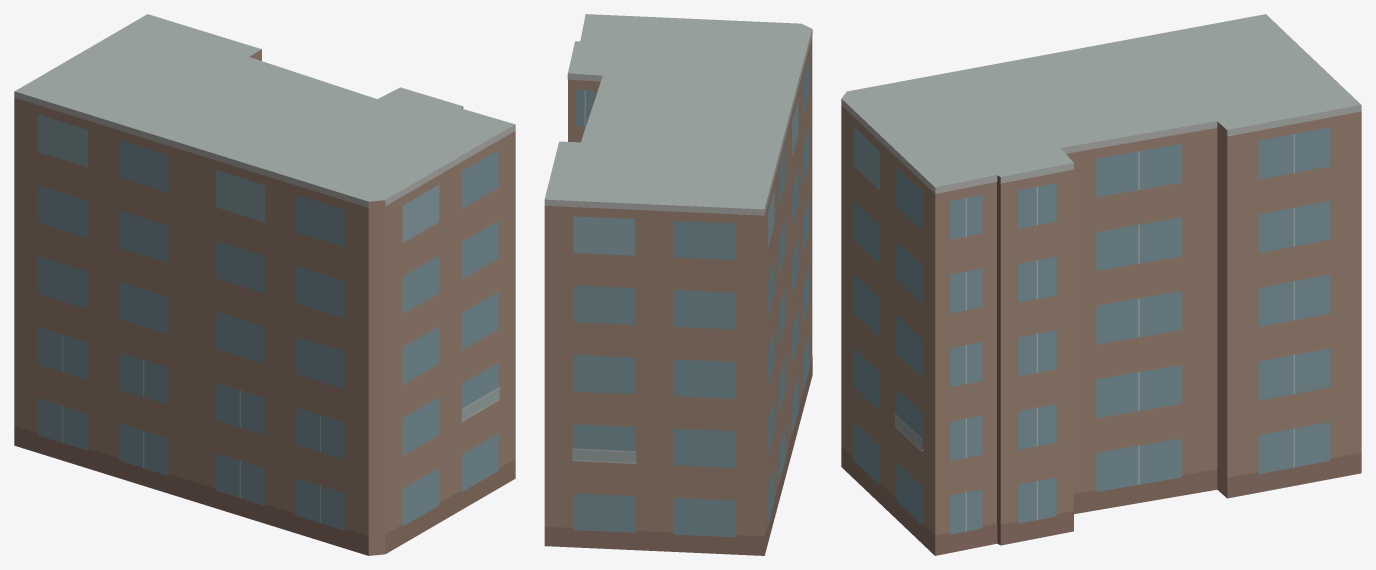
File: survey-upis-32613836.glb
3 views of the same model, side by side, from view 1: azimuth 30°, elevation 25°; view 2: azimuth 150°, elevation 25°; view 3: azimuth 270°, elevation 25° (orthographic). The views are drawn at different scales.
Parts seen in each view (by area): view 1: survey-upis-32613836.tmp; view 2: survey-upis-32613836.tmp; view 3: survey-upis-32613836.tmp.
Part boxes in pixels (x1,y1,x2,y2): survey-upis-32613836.tmp: [14, 14, 515, 555]; survey-upis-32613836.tmp: [544, 14, 812, 555]; survey-upis-32613836.tmp: [841, 14, 1361, 555].
Size of the model in its own units: 13.85 by 13.7 by 17.54.
